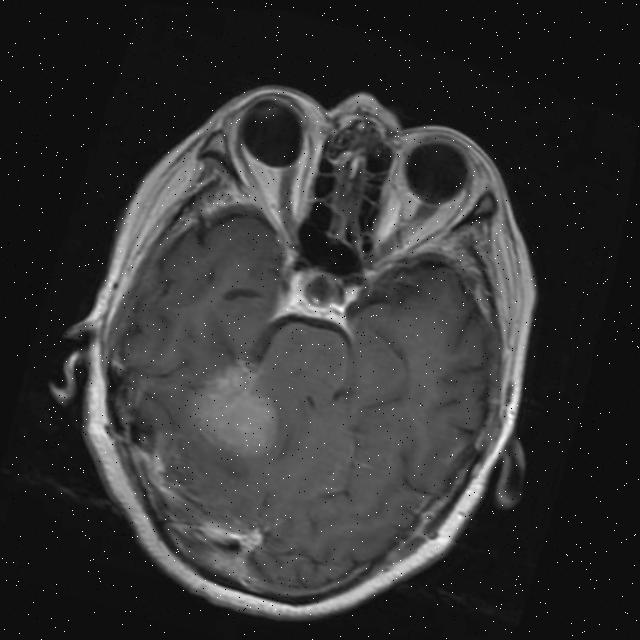Meningioma: (184, 346, 294, 466)
